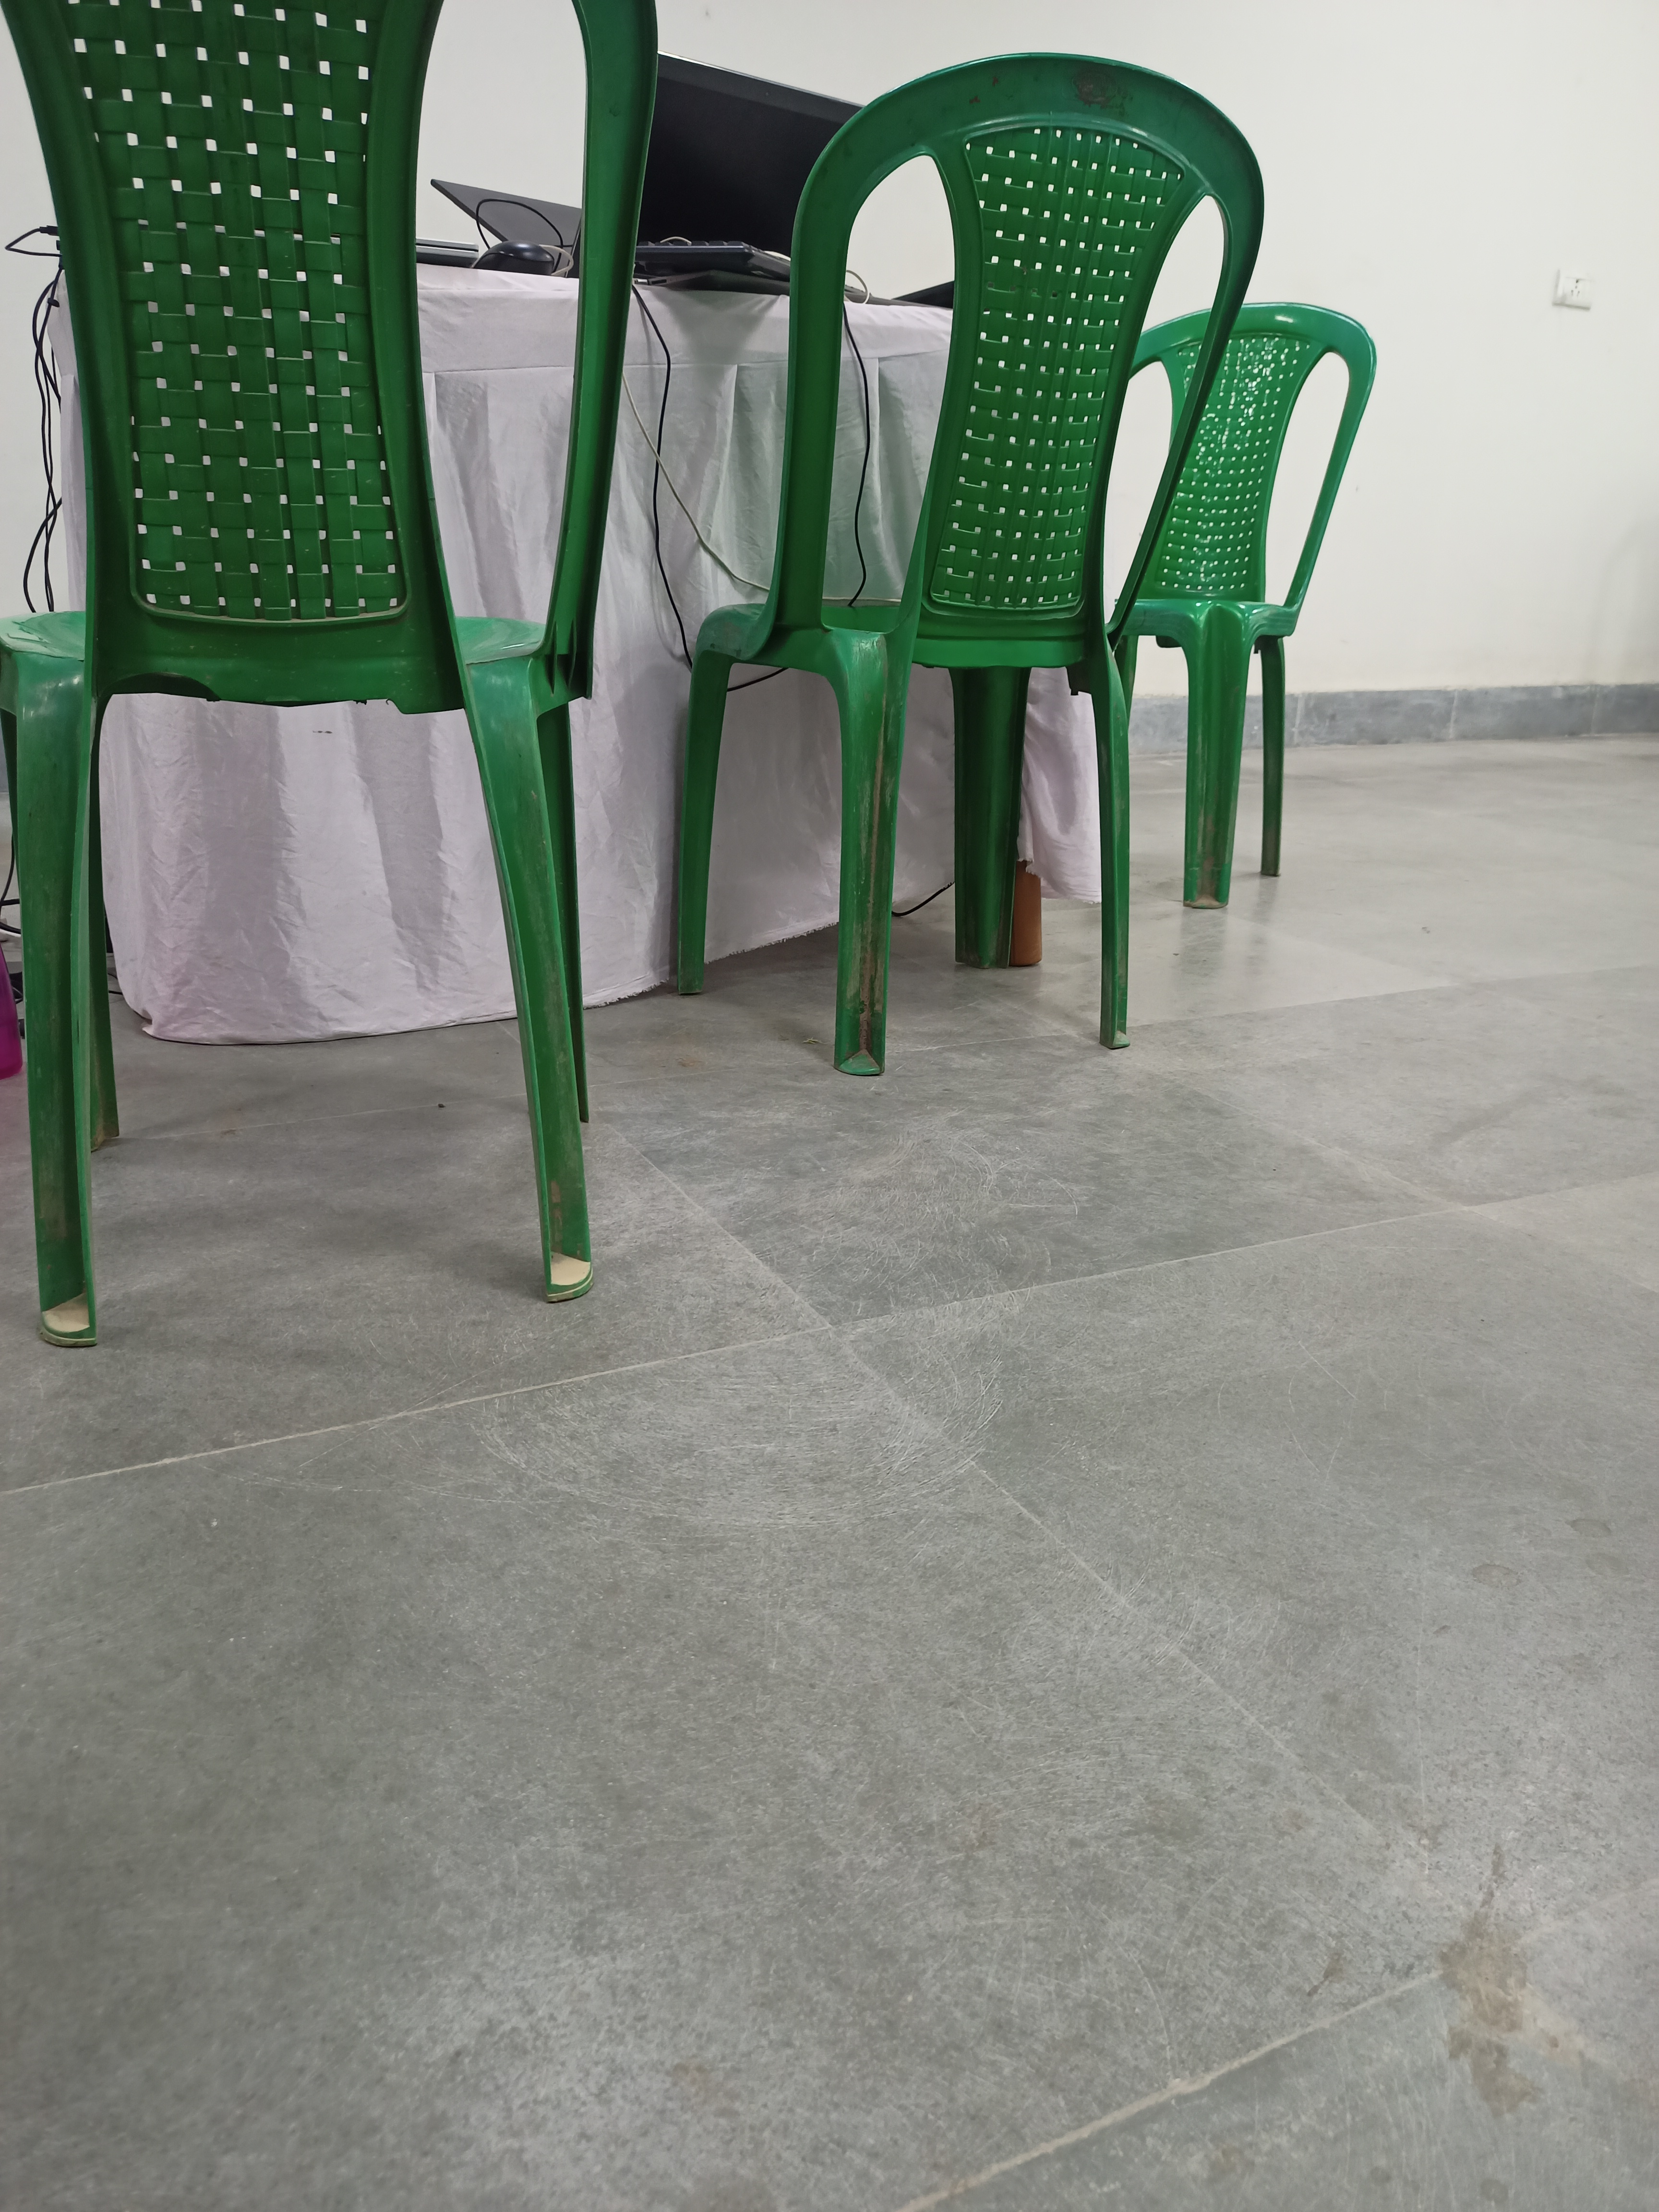Obstacle: (0, 314, 1297, 1113)
Path: (134, 1042, 1615, 2179)
